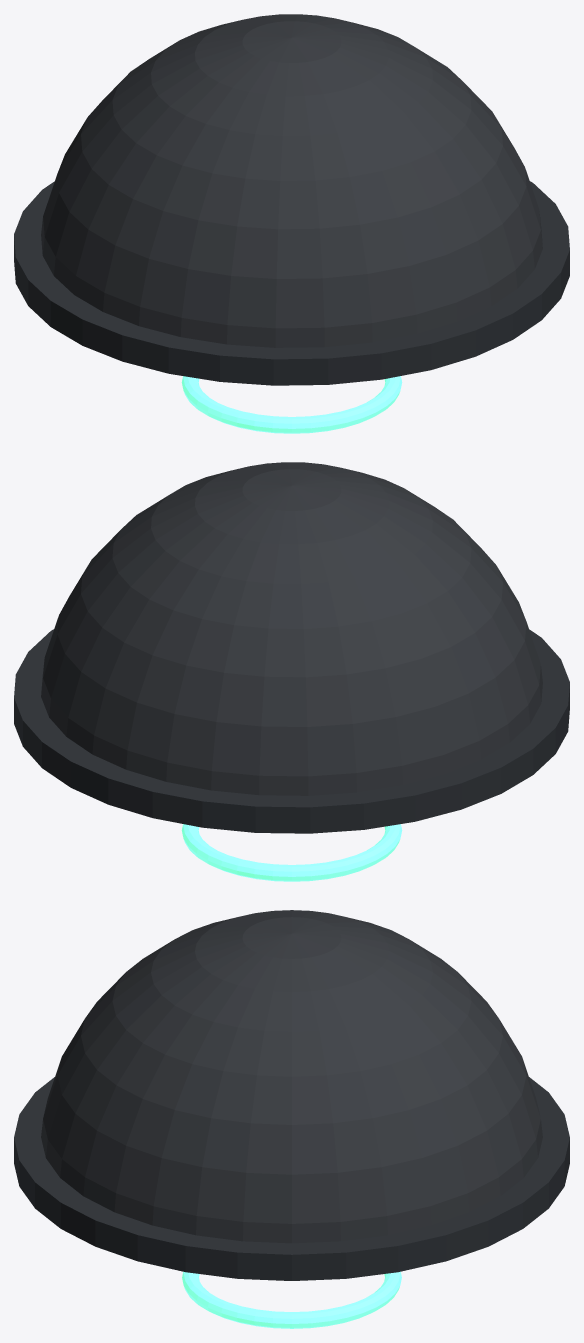
File: ap-ceiling.glb
3 renders of one model, top to bottom at view 1: azimuth 30°, elevation 25°; view 2: azimuth 150°, elevation 25°; view 3: azimuth 270°, elevation 25°, orthographic.
Visible parts, largest first — view 1: GEO_EXPORT_03_plastic, GEO_EXPORT_01_chassis, GEO_EXPORT_02_led; view 2: GEO_EXPORT_03_plastic, GEO_EXPORT_01_chassis, GEO_EXPORT_02_led; view 3: GEO_EXPORT_03_plastic, GEO_EXPORT_01_chassis, GEO_EXPORT_02_led.
Part boxes in pixels (x1=…): GEO_EXPORT_03_plastic: x1=41, y1=14, x2=542, y2=347; GEO_EXPORT_01_chassis: x1=14, y1=181, x2=569, y2=385; GEO_EXPORT_02_led: x1=181, y1=376, x2=402, y2=433; GEO_EXPORT_03_plastic: x1=41, y1=462, x2=542, y2=795; GEO_EXPORT_01_chassis: x1=14, y1=629, x2=569, y2=833; GEO_EXPORT_02_led: x1=181, y1=824, x2=402, y2=881; GEO_EXPORT_03_plastic: x1=41, y1=910, x2=542, y2=1243; GEO_EXPORT_01_chassis: x1=14, y1=1077, x2=569, y2=1280; GEO_EXPORT_02_led: x1=182, y1=1271, x2=401, y2=1328.
Bounding box in the file's own units: 0.23 × 0.1603 × 0.23.
